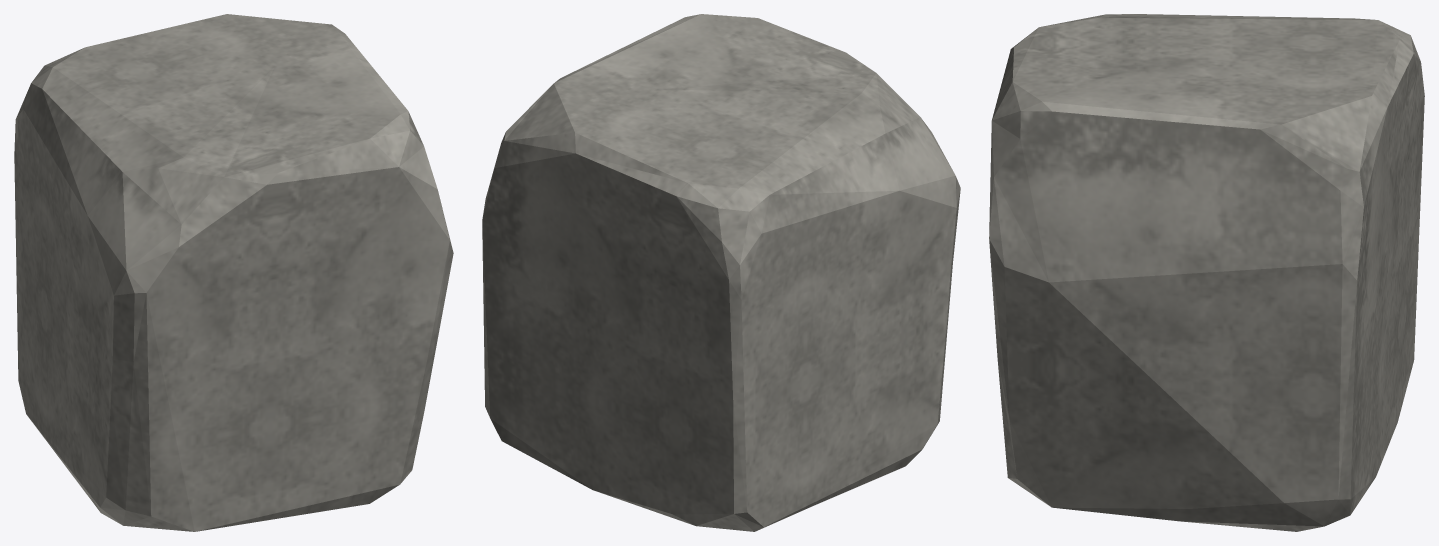
Rendered from section-1x1x1-v0-17_5_2.glb.
3 renders of one model, left to right at view 1: azimuth 30°, elevation 25°; view 2: azimuth 150°, elevation 25°; view 3: azimuth 270°, elevation 25°, orthographic. The views are drawn at different scales.
Parts seen in each view (by area): view 1: stone-group-0; view 2: stone-group-0; view 3: stone-group-0.
Part boxes in pixels (x1,y1,x2,y2): stone-group-0: (14, 14, 453, 531); stone-group-0: (482, 14, 960, 531); stone-group-0: (989, 14, 1424, 531).
Size of the model in its own units: 0.246 by 0.2425 by 0.2373.
1 material, 1 textured.
